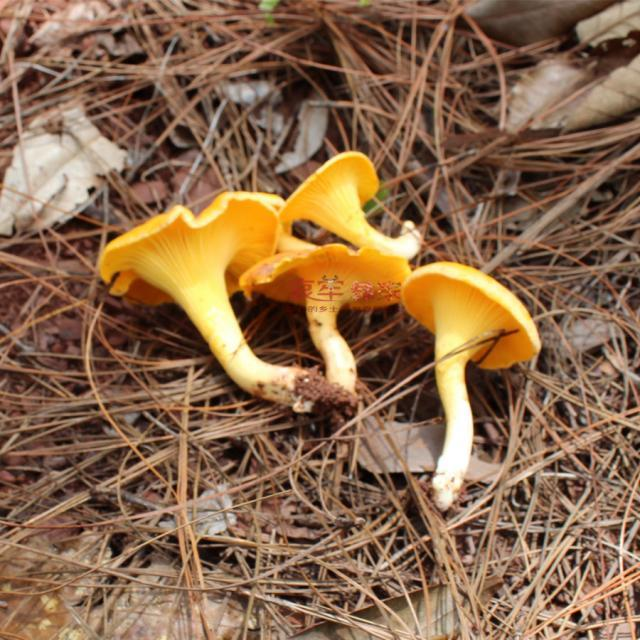Cantharellus cibarius: (107, 194, 407, 407), (409, 261, 540, 504), (282, 151, 430, 260)
